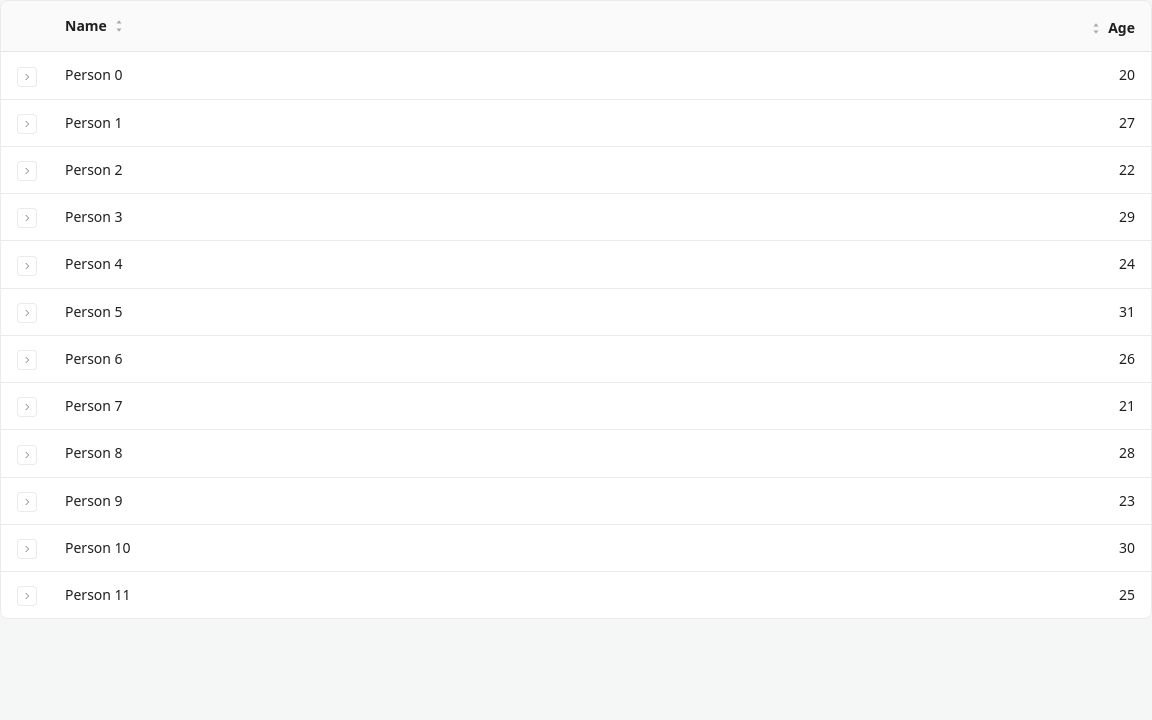
Test: DataTable — feature columns appear only with config › expandable renders an expand column and the region below the row
Click the button named "Expand row" next to "Person 0" at [27, 76], box [17, 66, 37, 86]
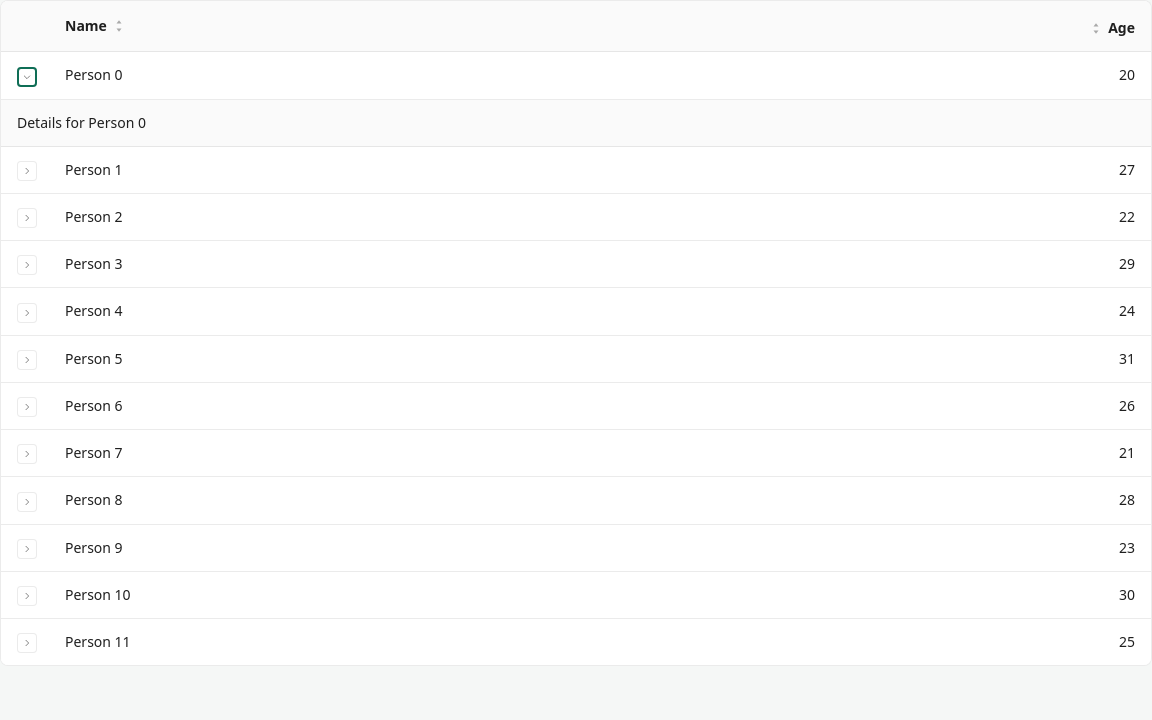
Now the button named "Expand row" is expanded, box [17, 66, 37, 86]
Now the element showing "Details for Person 0" is shown, box [17, 112, 146, 132]
